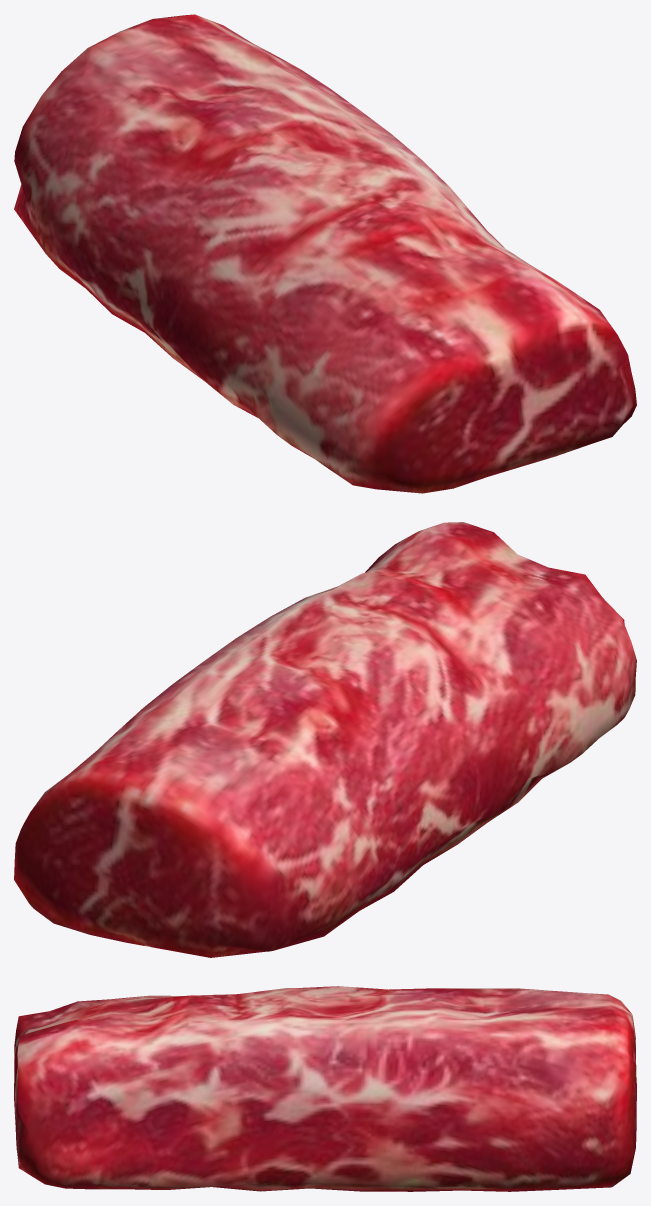
Rendered from meat_lo.glb.
3 renders of one model, top to bottom at view 1: azimuth 30°, elevation 25°; view 2: azimuth 150°, elevation 25°; view 3: azimuth 270°, elevation 25°, orthographic. The views are drawn at different scales.
Visible parts, largest first — view 1: merged; view 2: merged; view 3: merged.
Part boxes in pixels (<box>): merged: <box>14,14,636,493</box>; merged: <box>14,522,636,957</box>; merged: <box>14,986,636,1191</box>.
Size of the model in its own units: 0.2154 by 0.1283 by 0.4844.
Materials: 1 (1 with a texture image).
